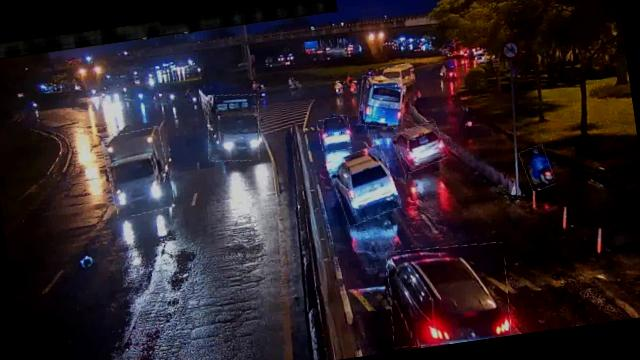Bike: (520, 144, 554, 190)
Bus: (354, 72, 409, 131), (376, 63, 419, 89)
Car: (383, 238, 515, 350), (328, 145, 400, 225), (391, 120, 447, 172), (316, 115, 352, 152)
Truck: (102, 127, 174, 218), (202, 90, 266, 165)
